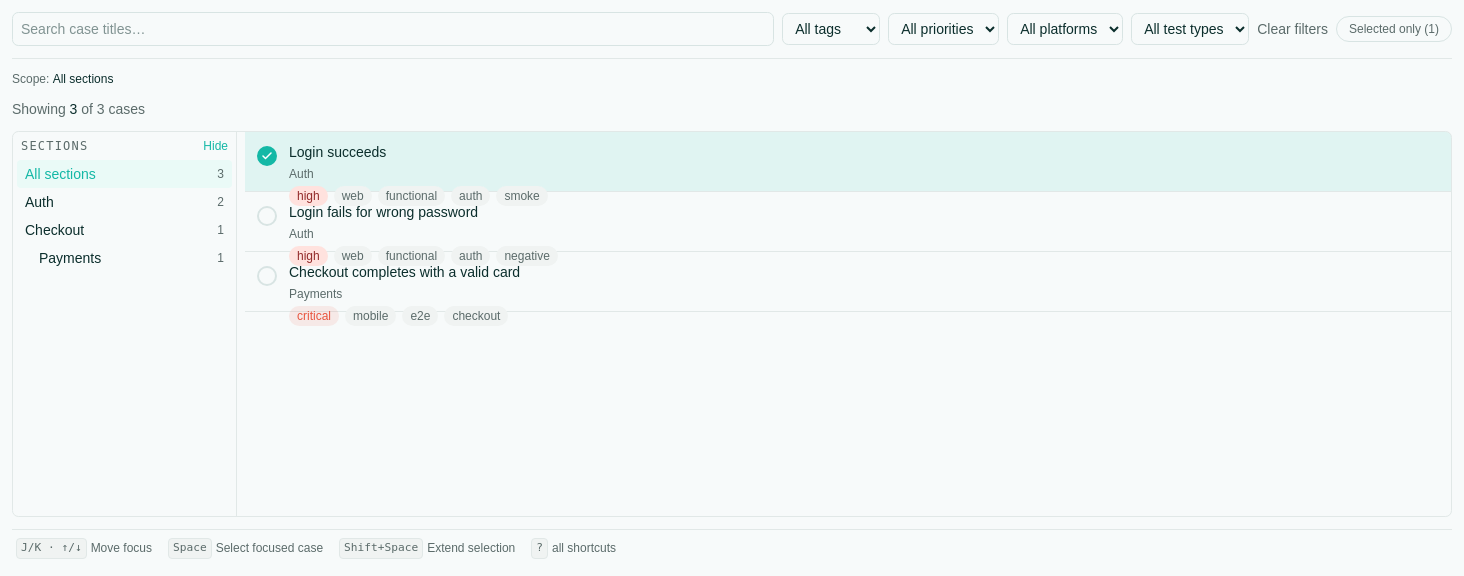
Test case: CasePicker › filters rows by platform without changing the selection
Expected: the checkbox labelled "Login succeeds Auth high web functional auth smoke" is checked, [245,132,1451,192]
Select "Mobile" in the dropdown named "platform" at coordinates (1065, 29), box [1007,13,1123,45]
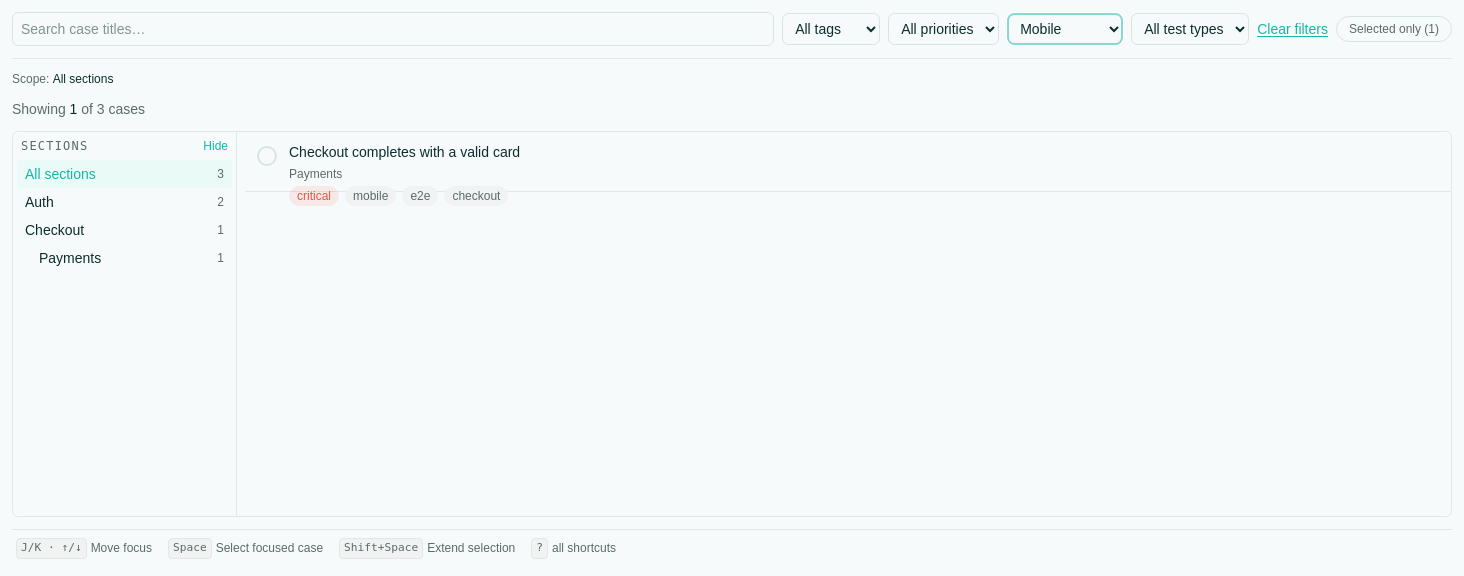
Expected: the text "Checkout completes with a valid card" is shown, [289,142,520,162]
Result: the checkbox "Login succeeds" is gone
Select "All platforms" in the dropdown named "platform" at coordinates (1065, 29), box [1007,13,1123,45]
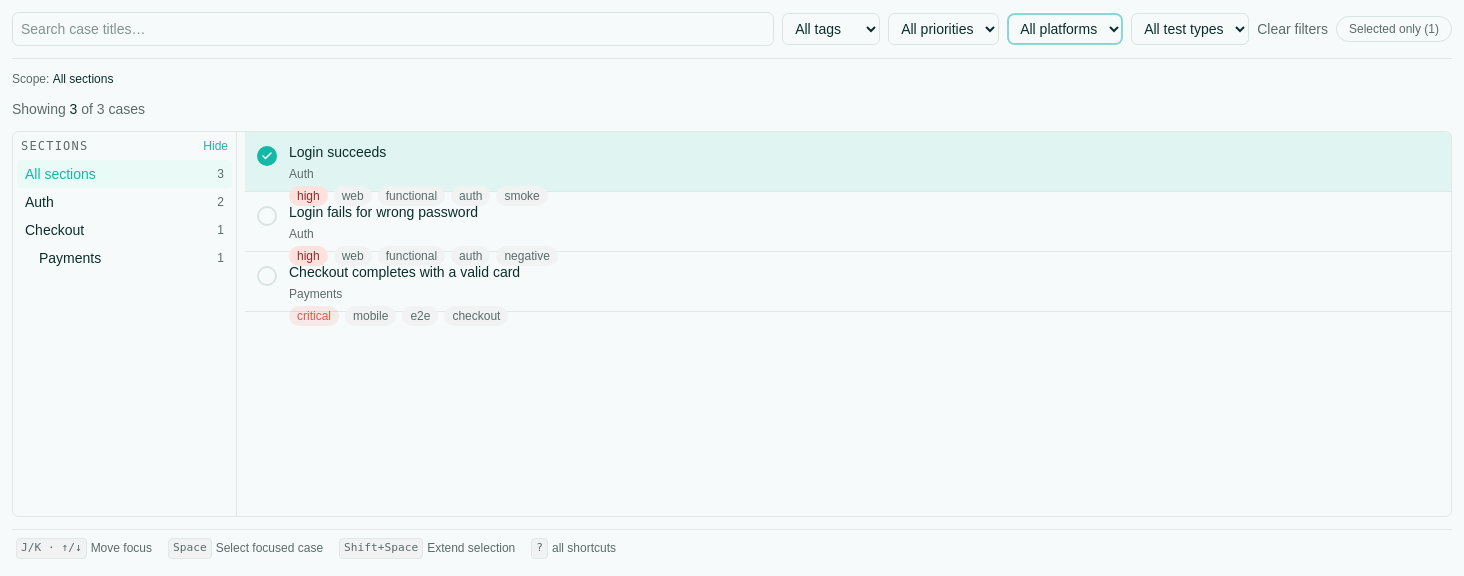
Result: the checkbox labelled "Login succeeds Auth high web functional auth smoke" is checked at [245,132,1451,192]
